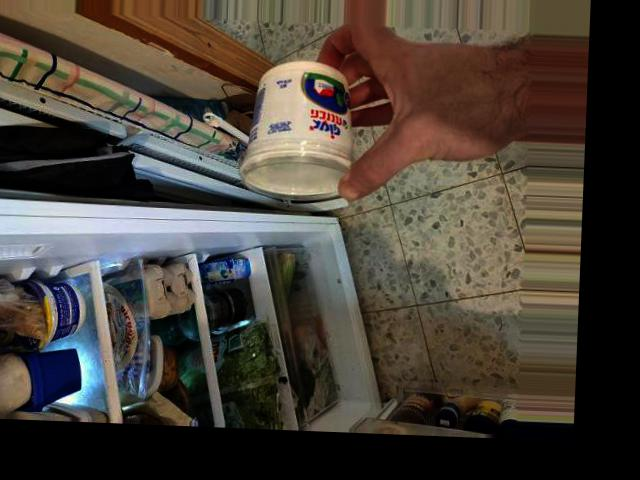cotage: (250, 70, 365, 193)
